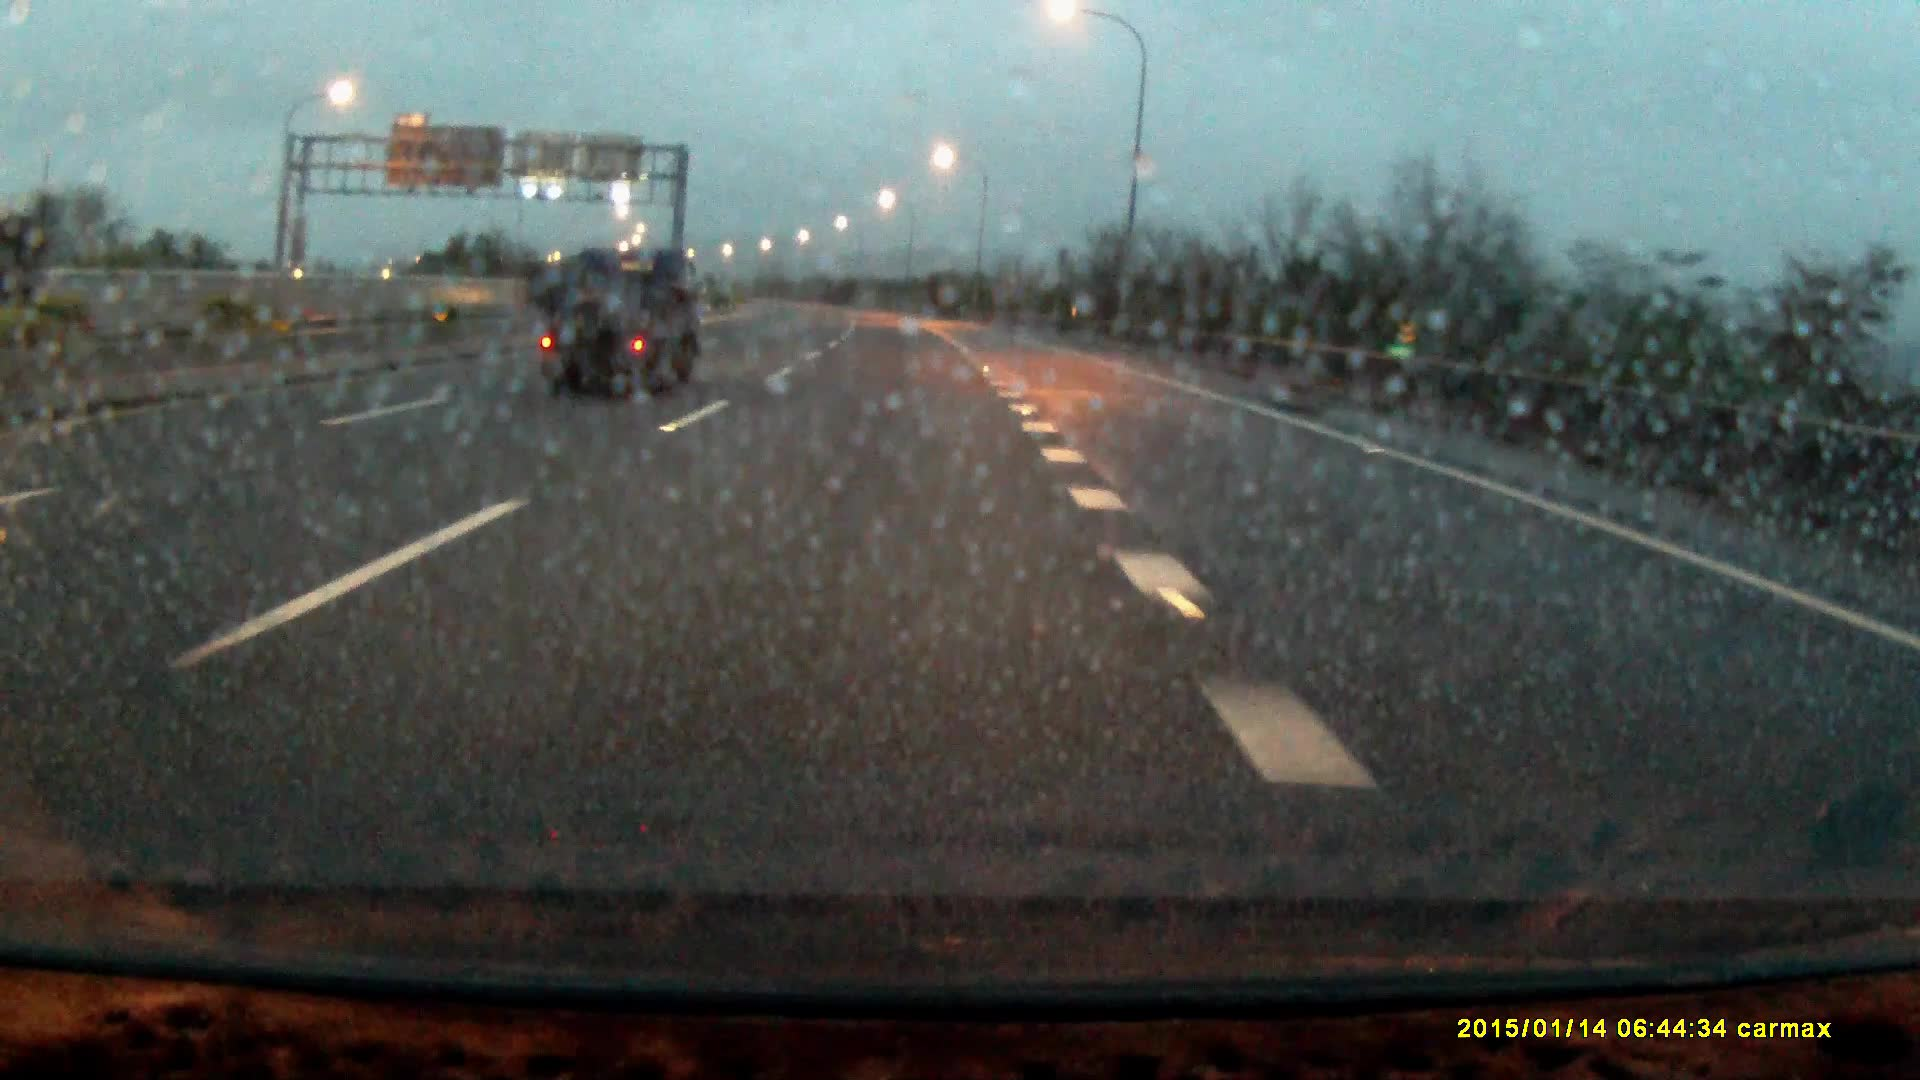vehicle: (533, 252, 707, 400)
